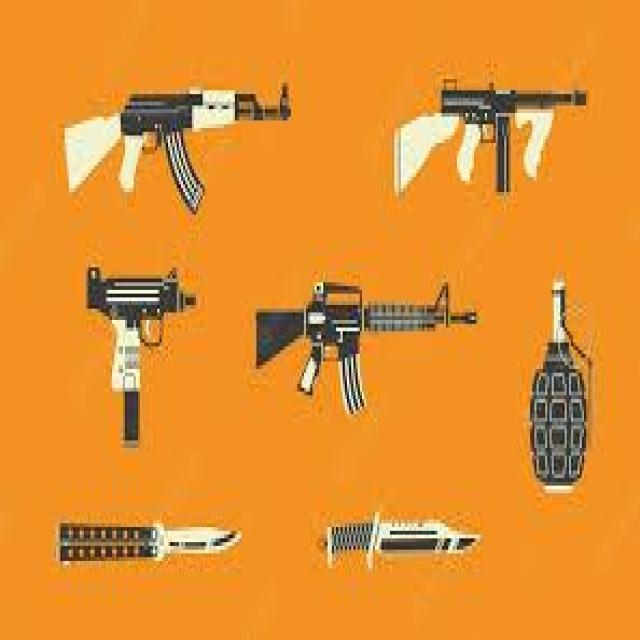Grenade: (528, 278, 595, 494)
Knife: (317, 508, 479, 569), (54, 512, 242, 563)
Rifle: (254, 275, 478, 414), (65, 79, 293, 213), (392, 75, 588, 194), (86, 264, 197, 452)
